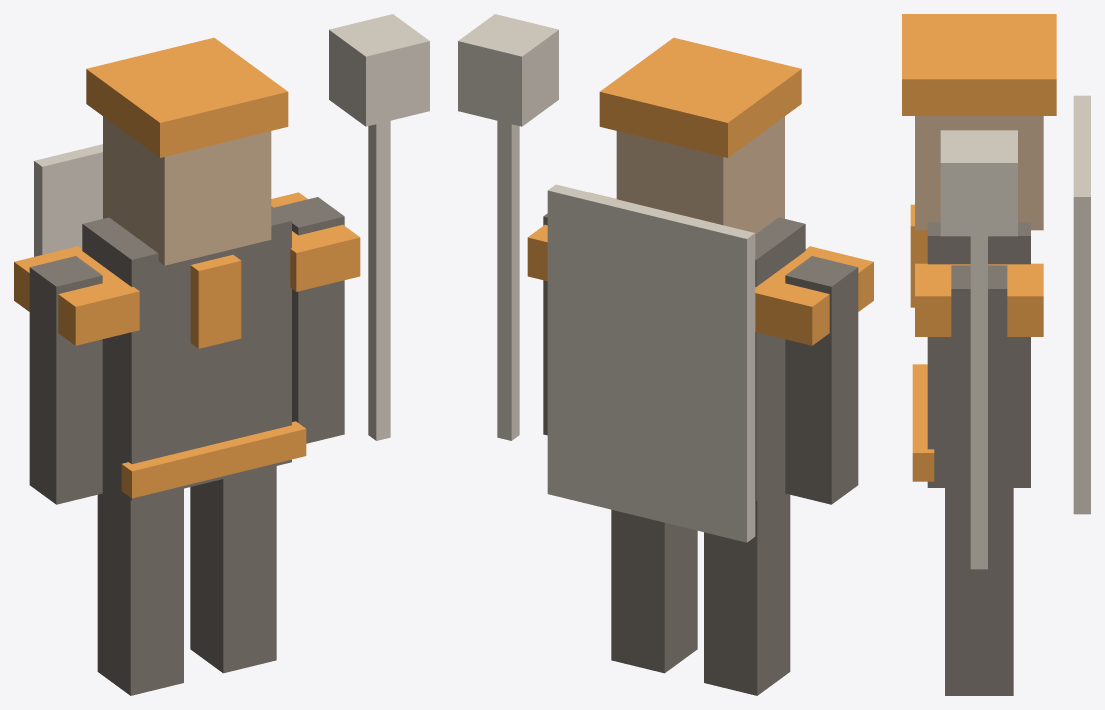
The model's file is 08_eryk_signalborn_tactician_of_spark.glb.
The picture shows the model from 3 angles, left to right: view 1: azimuth 30°, elevation 25°; view 2: azimuth 150°, elevation 25°; view 3: azimuth 270°, elevation 25°; orthographic projection. The views are drawn at different scales.
Visible parts, largest first — view 1: Eryk Signalborn, Tactician of Spark; view 2: Eryk Signalborn, Tactician of Spark; view 3: Eryk Signalborn, Tactician of Spark.
Boxes of the visible parts, <box> form: Eryk Signalborn, Tactician of Spark: <box>14,14,429,695</box>; Eryk Signalborn, Tactician of Spark: <box>458,14,873,695</box>; Eryk Signalborn, Tactician of Spark: <box>902,14,1090,695</box>.
Size of the model in its own units: 0.9536 by 1.45 by 0.4054.
